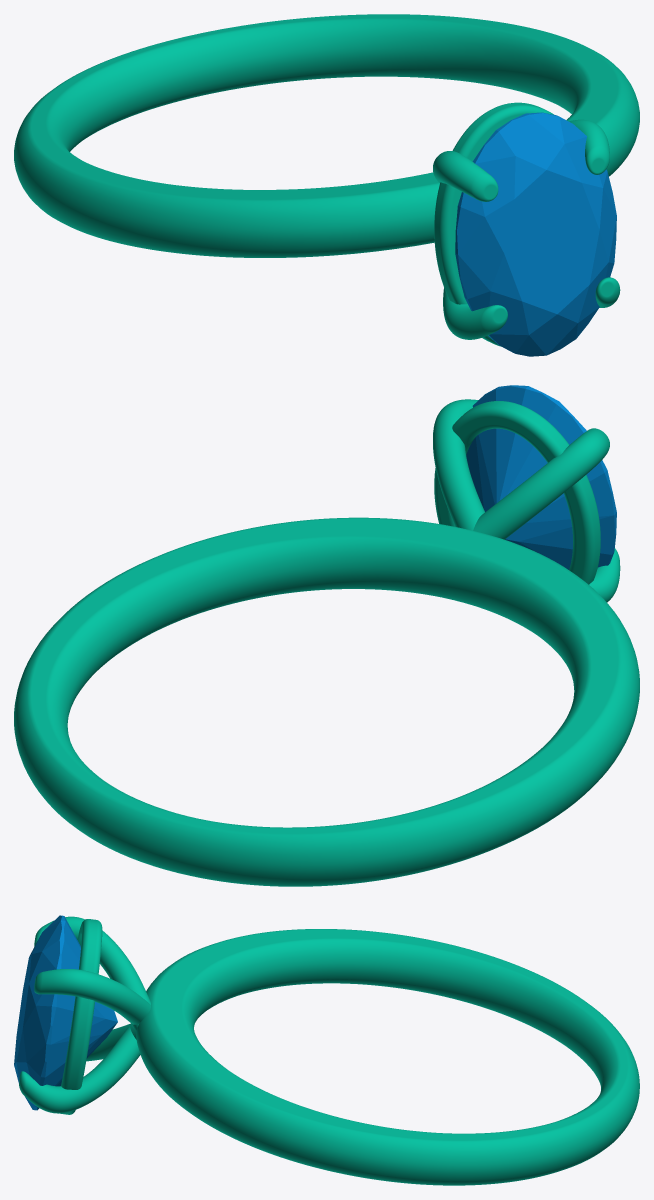
3 views of the same model, one above another, from view 1: azimuth 30°, elevation 25°; view 2: azimuth 150°, elevation 25°; view 3: azimuth 270°, elevation 25° (orthographic). The views are drawn at different scales.
Parts seen in each view (by area): view 1: VR-95(base).3dm, Diamond_Oval; view 2: VR-95(base).3dm, Diamond_Oval; view 3: VR-95(base).3dm, Diamond_Oval.
Boxes of the visible parts, <box> form: VR-95(base).3dm: <box>14,14,639,346</box>; Diamond_Oval: <box>455,112,616,356</box>; VR-95(base).3dm: <box>14,399,639,886</box>; Diamond_Oval: <box>466,385,616,569</box>; VR-95(base).3dm: <box>19,916,639,1185</box>; Diamond_Oval: <box>14,915,117,1110</box>.
Bounding box in the file's own units: 2.44 × 1.01 × 3.
